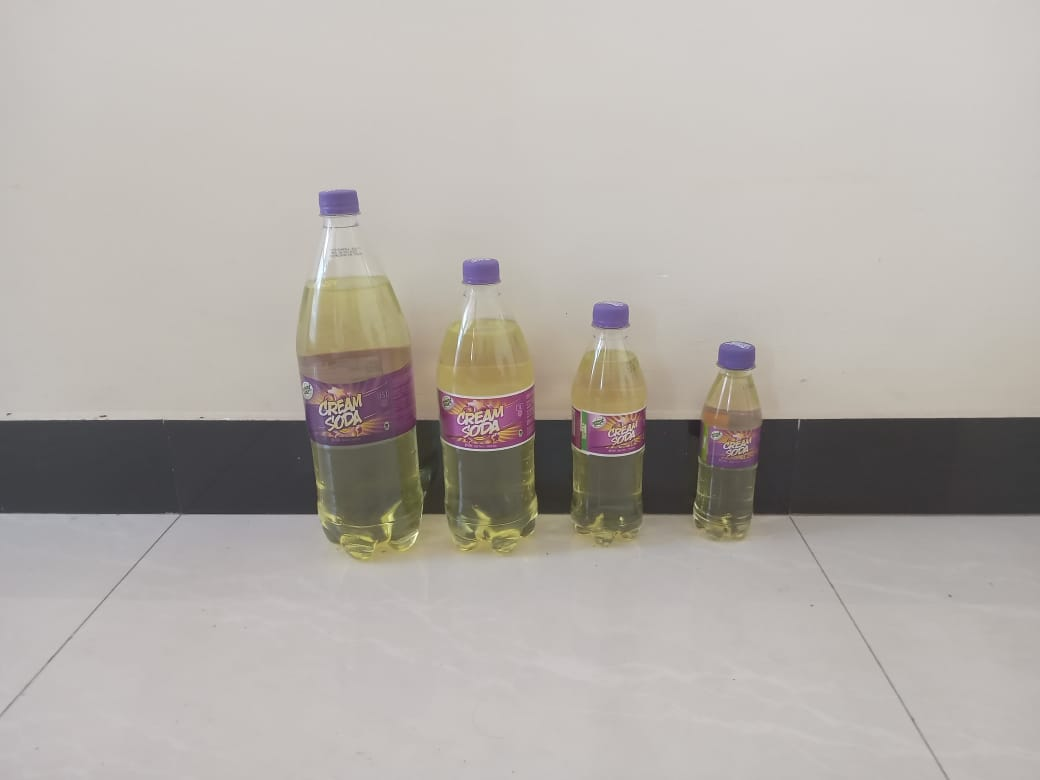L: (292, 192, 427, 556)
M: (435, 255, 541, 548)
S: (572, 308, 650, 552)
Xs: (695, 340, 764, 543)
